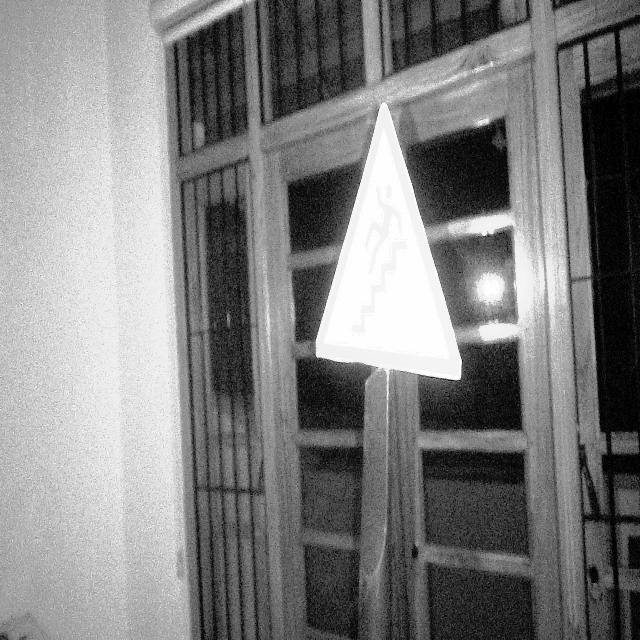Sign: (314, 101, 463, 383)
